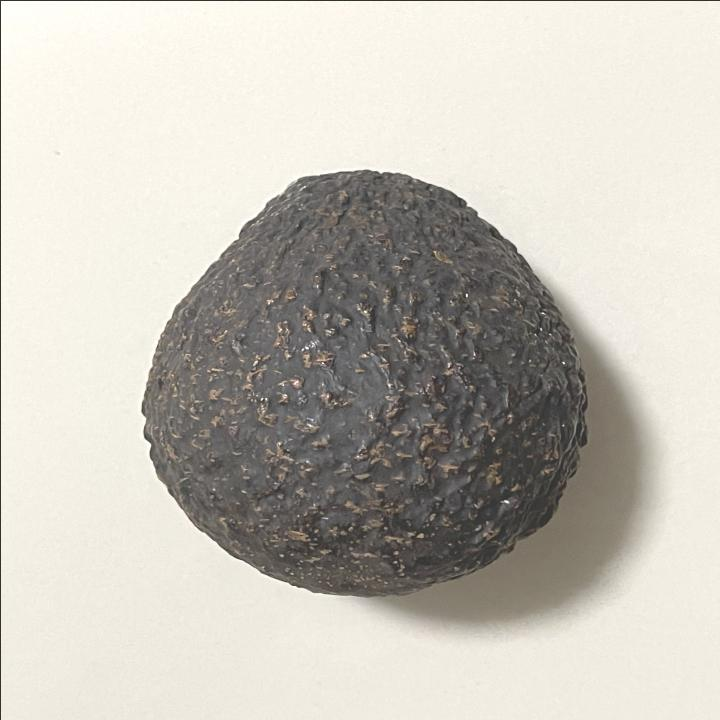Level3: (127, 160, 604, 606)
